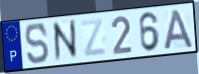2: (111, 15, 134, 56)
6: (138, 10, 162, 54)
A: (163, 9, 195, 51)
N: (50, 18, 80, 64)
S: (24, 22, 51, 66)
Z: (79, 17, 108, 59)
